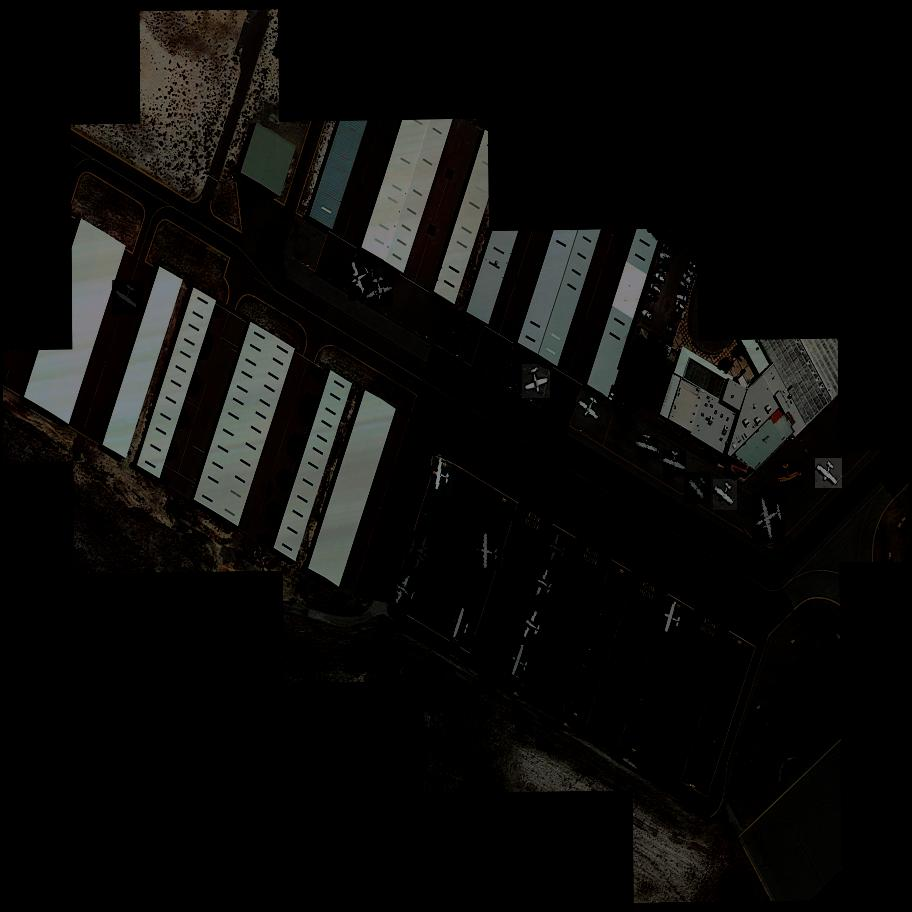plane: (749, 491, 787, 543), (387, 571, 424, 615), (405, 531, 438, 575), (572, 391, 609, 427), (109, 281, 147, 316), (347, 259, 377, 301), (448, 606, 477, 647), (516, 609, 547, 647), (506, 645, 536, 684), (522, 364, 553, 399), (708, 479, 741, 511), (681, 472, 714, 504), (811, 458, 845, 489), (474, 530, 500, 570), (431, 456, 456, 496), (531, 569, 559, 604), (661, 601, 685, 635), (367, 276, 394, 306), (546, 532, 569, 566), (659, 450, 688, 476), (778, 461, 802, 487), (636, 436, 658, 458)
small-vehicle: (684, 267, 698, 280), (677, 285, 689, 299), (654, 272, 666, 285), (661, 244, 673, 256), (659, 260, 670, 273), (641, 311, 654, 322), (669, 312, 682, 323), (665, 326, 677, 337), (682, 273, 693, 284), (679, 280, 691, 290), (675, 301, 686, 311), (647, 293, 659, 302), (659, 254, 672, 262), (650, 284, 660, 293), (667, 319, 677, 328), (676, 295, 688, 302), (656, 267, 666, 275), (673, 309, 683, 315)
